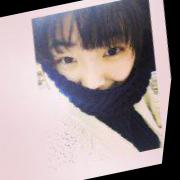WRONG: (36, 12, 155, 124)
